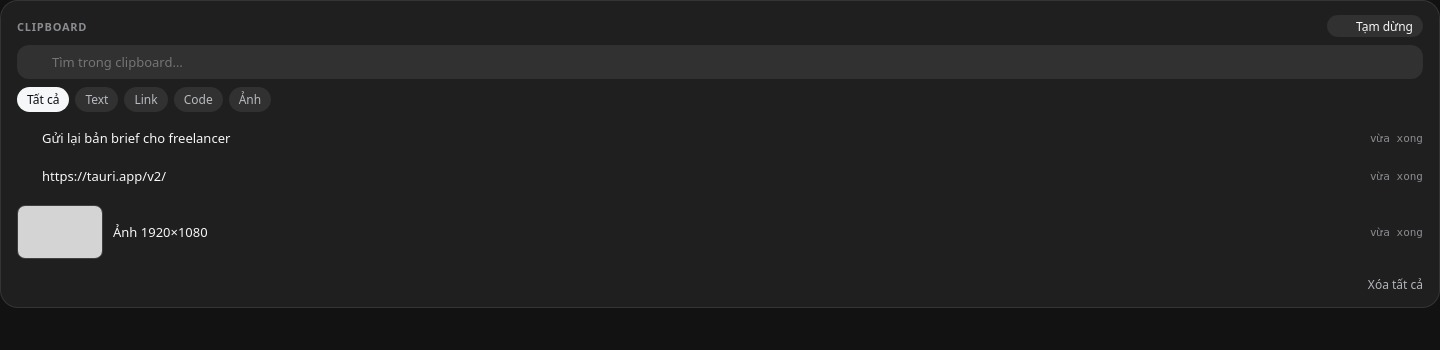
Test: ClipboardCard › reports a copy that did not work
Click the button titled "https://tauri.app/v2/": click(104, 176) [9,158,1431,194]
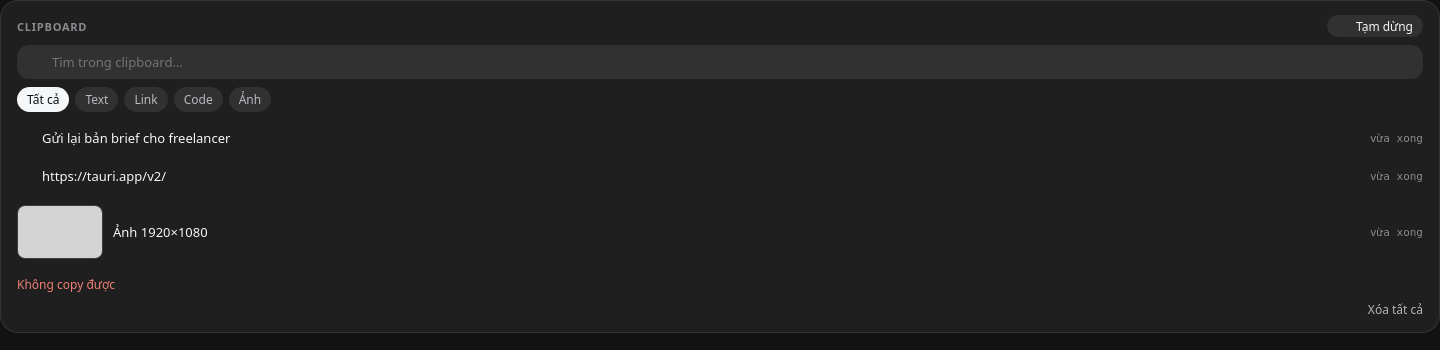
Check: the text "Không copy được" is shown, box [17,276,115,293]
